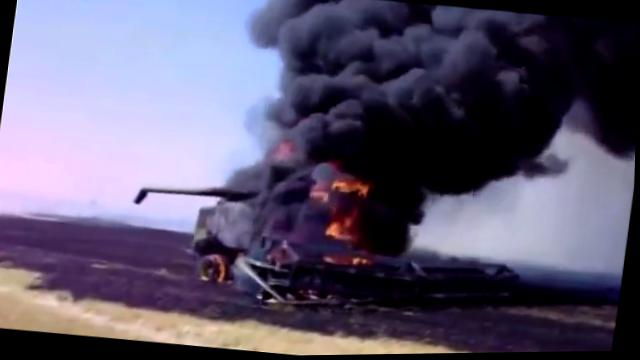fire: (327, 218, 357, 244), (337, 179, 372, 195)
